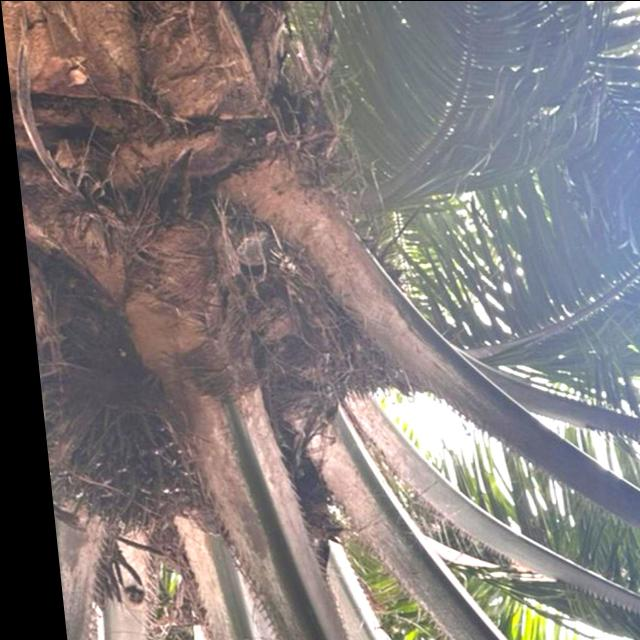unripe: (29, 351, 229, 548)
